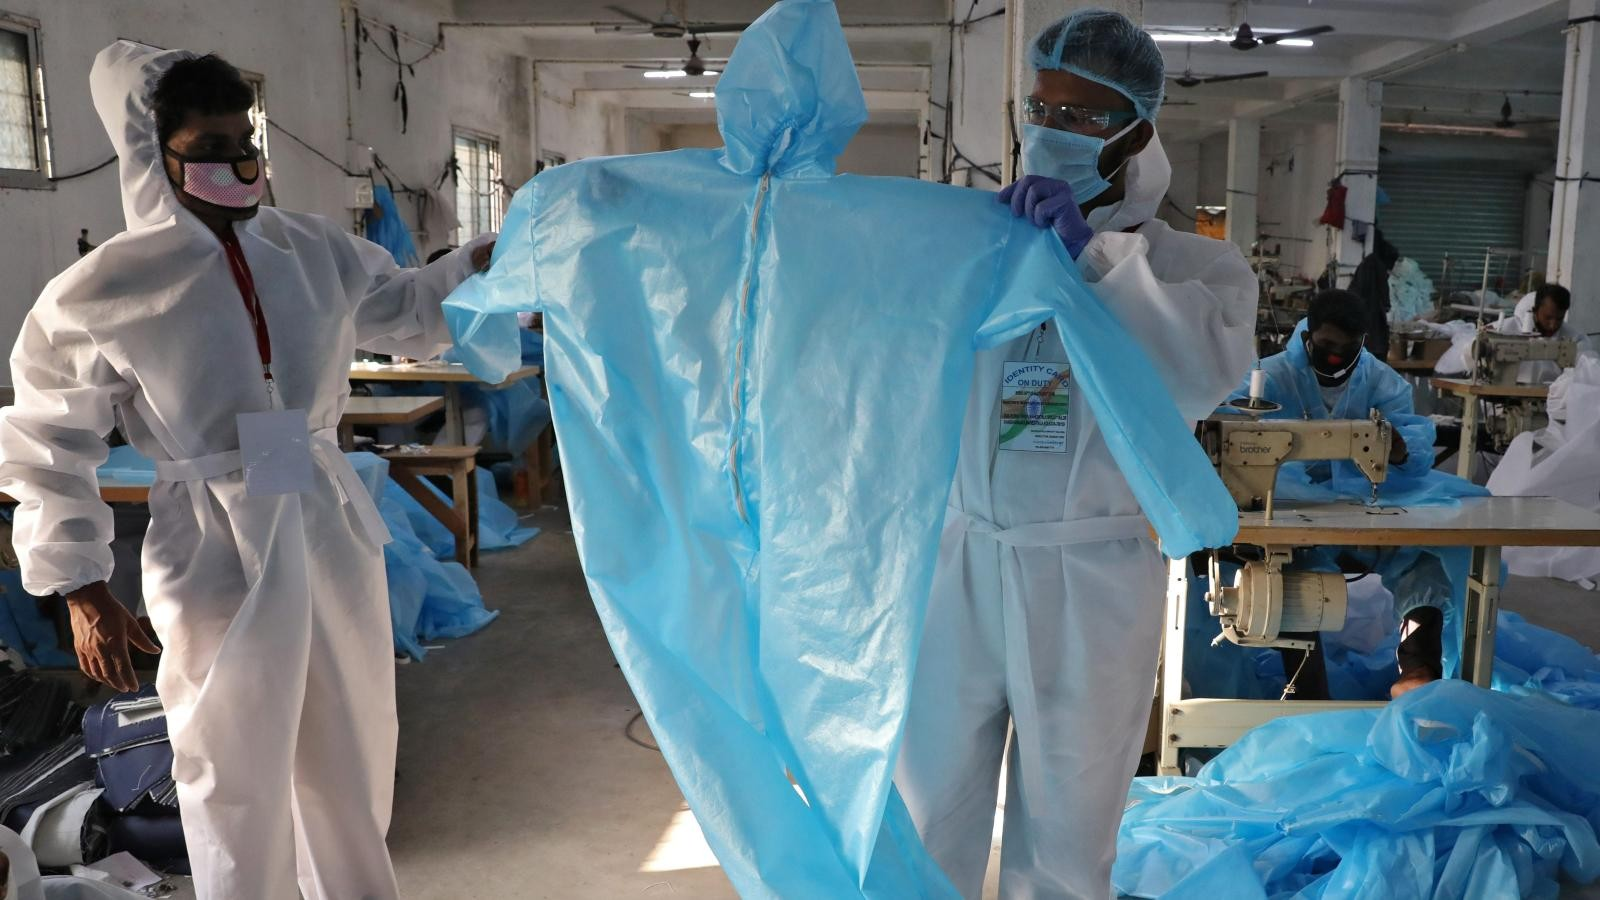Coverall: (1, 46, 490, 900), (877, 201, 1270, 900), (1244, 320, 1474, 620)
Gloves: (994, 173, 1091, 259)
with_mask: (1006, 90, 1143, 217), (174, 120, 267, 218), (1313, 334, 1355, 382)
